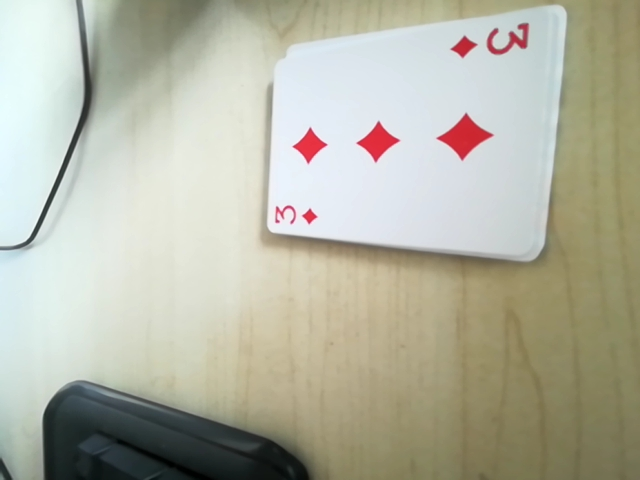fk 3: (448, 15, 538, 68), (267, 195, 325, 232)
